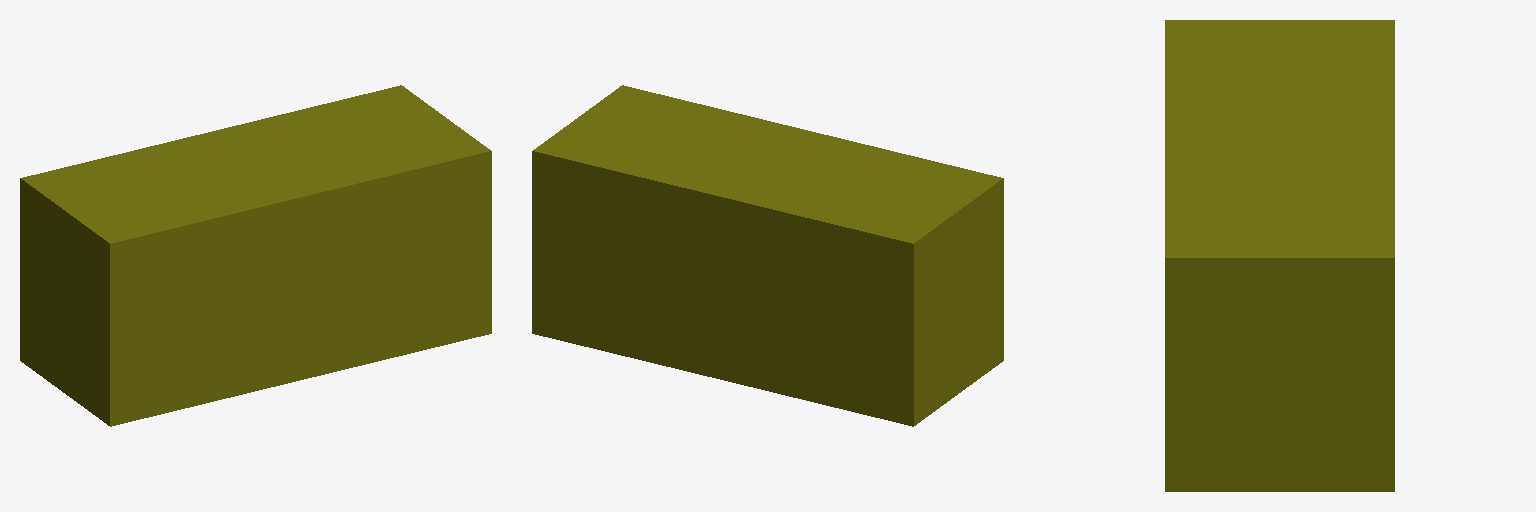
robot.urdf — block:
<robot name="block">
  
  <link name="block1">
    <visual>
      <origin xyz="0.0 0.0 0.0" rpy="0 0 0"/>
      <geometry>
        <box size="0.072360120984649 0.08856708646633264 0.09952232892663085"/>
      </geometry>
      <material name="dark_yellow">
        <color rgba="0.5 0.5 0.1 1"/>
      </material>
    </visual> 
    <collision>
      <origin xyz="0.0 0.0 0.0" rpy="0 0 0"/>
      <geometry>
        <box size="0.072360120984649 0.08856708646633264 0.09952232892663085"/>
      </geometry>
    </collision>
    <inertial>
      <mass value="0.39842357700150427"/>
      <inertia ixx="0.0005892957876375723" ixy="0" ixz="0" iyy="0.0005027003589762839" iyz="0" izz="0.00043428554750577153"/>
    </inertial>
  </link>

  <link name="block2">
    <visual>
      <origin xyz="0.0 0.0 0.0" rpy="0 0 0"/>
      <geometry>
        <box size="0.072360120984649 0.08856708646633264 0.09952232892663085"/>
      </geometry>
      <material name="dark_yellow">
        <color rgba="0.5 0.5 0.1 1"/>
      </material>
    </visual> 
    <collision>
      <origin xyz="0.0 0.0 0.0" rpy="0 0 0"/>
      <geometry>
        <box size="0.072360120984649 0.08856708646633264 0.09952232892663085"/>
      </geometry>
    </collision>
    <inertial>
      <mass value="0.07734568866549907"/>
      <inertia ixx="0.00011439957661525045" ixy="0" ixz="0" iyy="9.758886697929394e-05" iyz="0" izz="8.430754776638228e-05"/>
    </inertial>
  </link>

  <link name="block3">
    <visual>
      <origin xyz="0.0 0.0 0.0" rpy="0 0 0"/>
      <geometry>
        <box size="0.072360120984649 0.08856708646633264 0.09952232892663085"/>
      </geometry>
      <material name="dark_yellow">
        <color rgba="0.5 0.5 0.1 1"/>
      </material>
    </visual> 
    <collision>
      <origin xyz="0.0 0.0 0.0" rpy="0 0 0"/>
      <geometry>
        <box size="0.072360120984649 0.08856708646633264 0.09952232892663085"/>
      </geometry>
    </collision>
    <inertial>
      <mass value="0.07734568866549907"/>
      <inertia ixx="0.00011439957661525045" ixy="0" ixz="0" iyy="9.758886697929394e-05" iyz="0" izz="8.430754776638228e-05"/>
    </inertial>
  </link>

  <joint name="block_link1" type="fixed">
    <parent link="block1"/>
    <child link="block2"/>
    <origin xyz="0.072360120984649 0.0 0.0"/>
  </joint>

  <joint name="block_link2" type="fixed">
    <parent link="block2"/>
    <child link="block3"/>
    <origin xyz="0.072360120984649 0.0 0.0"/>
  </joint>

</robot>

--- What the picture shows (computed from the rendered views, not written in the file) ---
The picture shows the robot from 3 angles, left to right: view 1: azimuth 30°, elevation 25°; view 2: azimuth 150°, elevation 25°; view 3: azimuth 270°, elevation 25°; orthographic projection.
Model block with 3 links and 2 joints (2 fixed), rooted at block1, posed all joints at 0.
Links seen in each view (by area): view 1: block1, block3, block2; view 2: block1, block3, block2; view 3: block3, block1, block2.
Link boxes in pixels (box(x1,y1,x2,y2)): block1: box(20, 147, 236, 426); block3: box(275, 85, 491, 364); block2: box(148, 116, 363, 395); block1: box(787, 147, 1003, 426); block3: box(532, 85, 748, 364); block2: box(660, 116, 875, 395); block3: box(1165, 179, 1394, 491); block1: box(1165, 20, 1394, 99); block2: box(1165, 100, 1394, 178).
Size in the robot's own frame: 0.2171 by 0.0886 by 0.0995 metres.
Geometry: primitives only (box / cylinder / sphere), no mesh files.